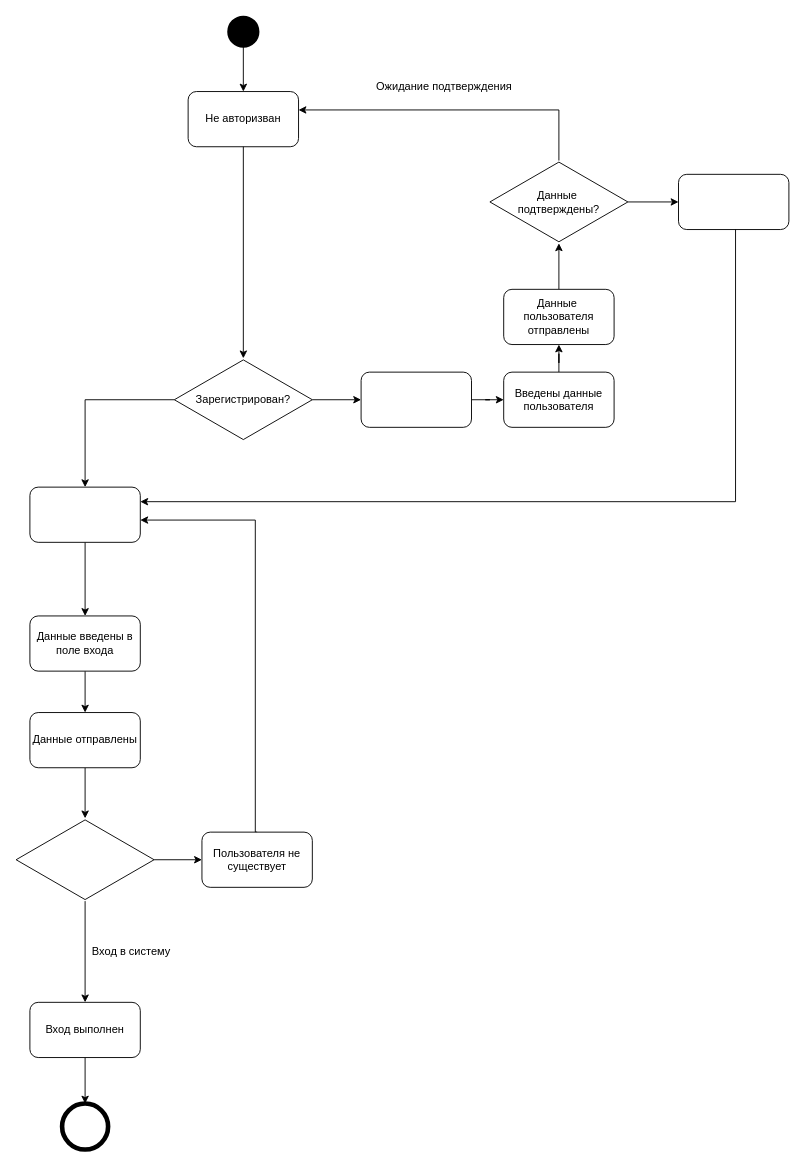
Image size: 805x1167. Some labels were removed from this diagram. Each missing label, with the centre of its shape:
Данные валидны?: [84,859]
Данные подтверждены: [733,201]
Зарегистрирован: [84,514]
Не зарегистрирован: [416,399]
